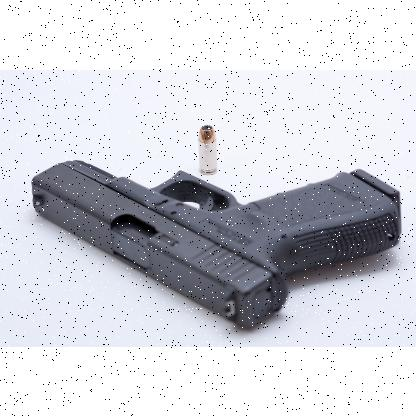gun: (31, 159, 401, 327)
